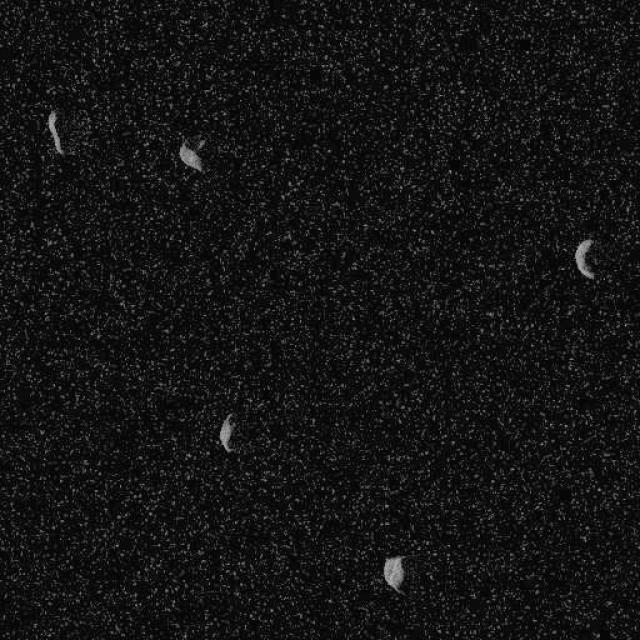D2: (572, 238, 596, 280), (381, 554, 405, 594), (177, 140, 205, 172), (46, 109, 65, 156), (218, 412, 236, 452)
